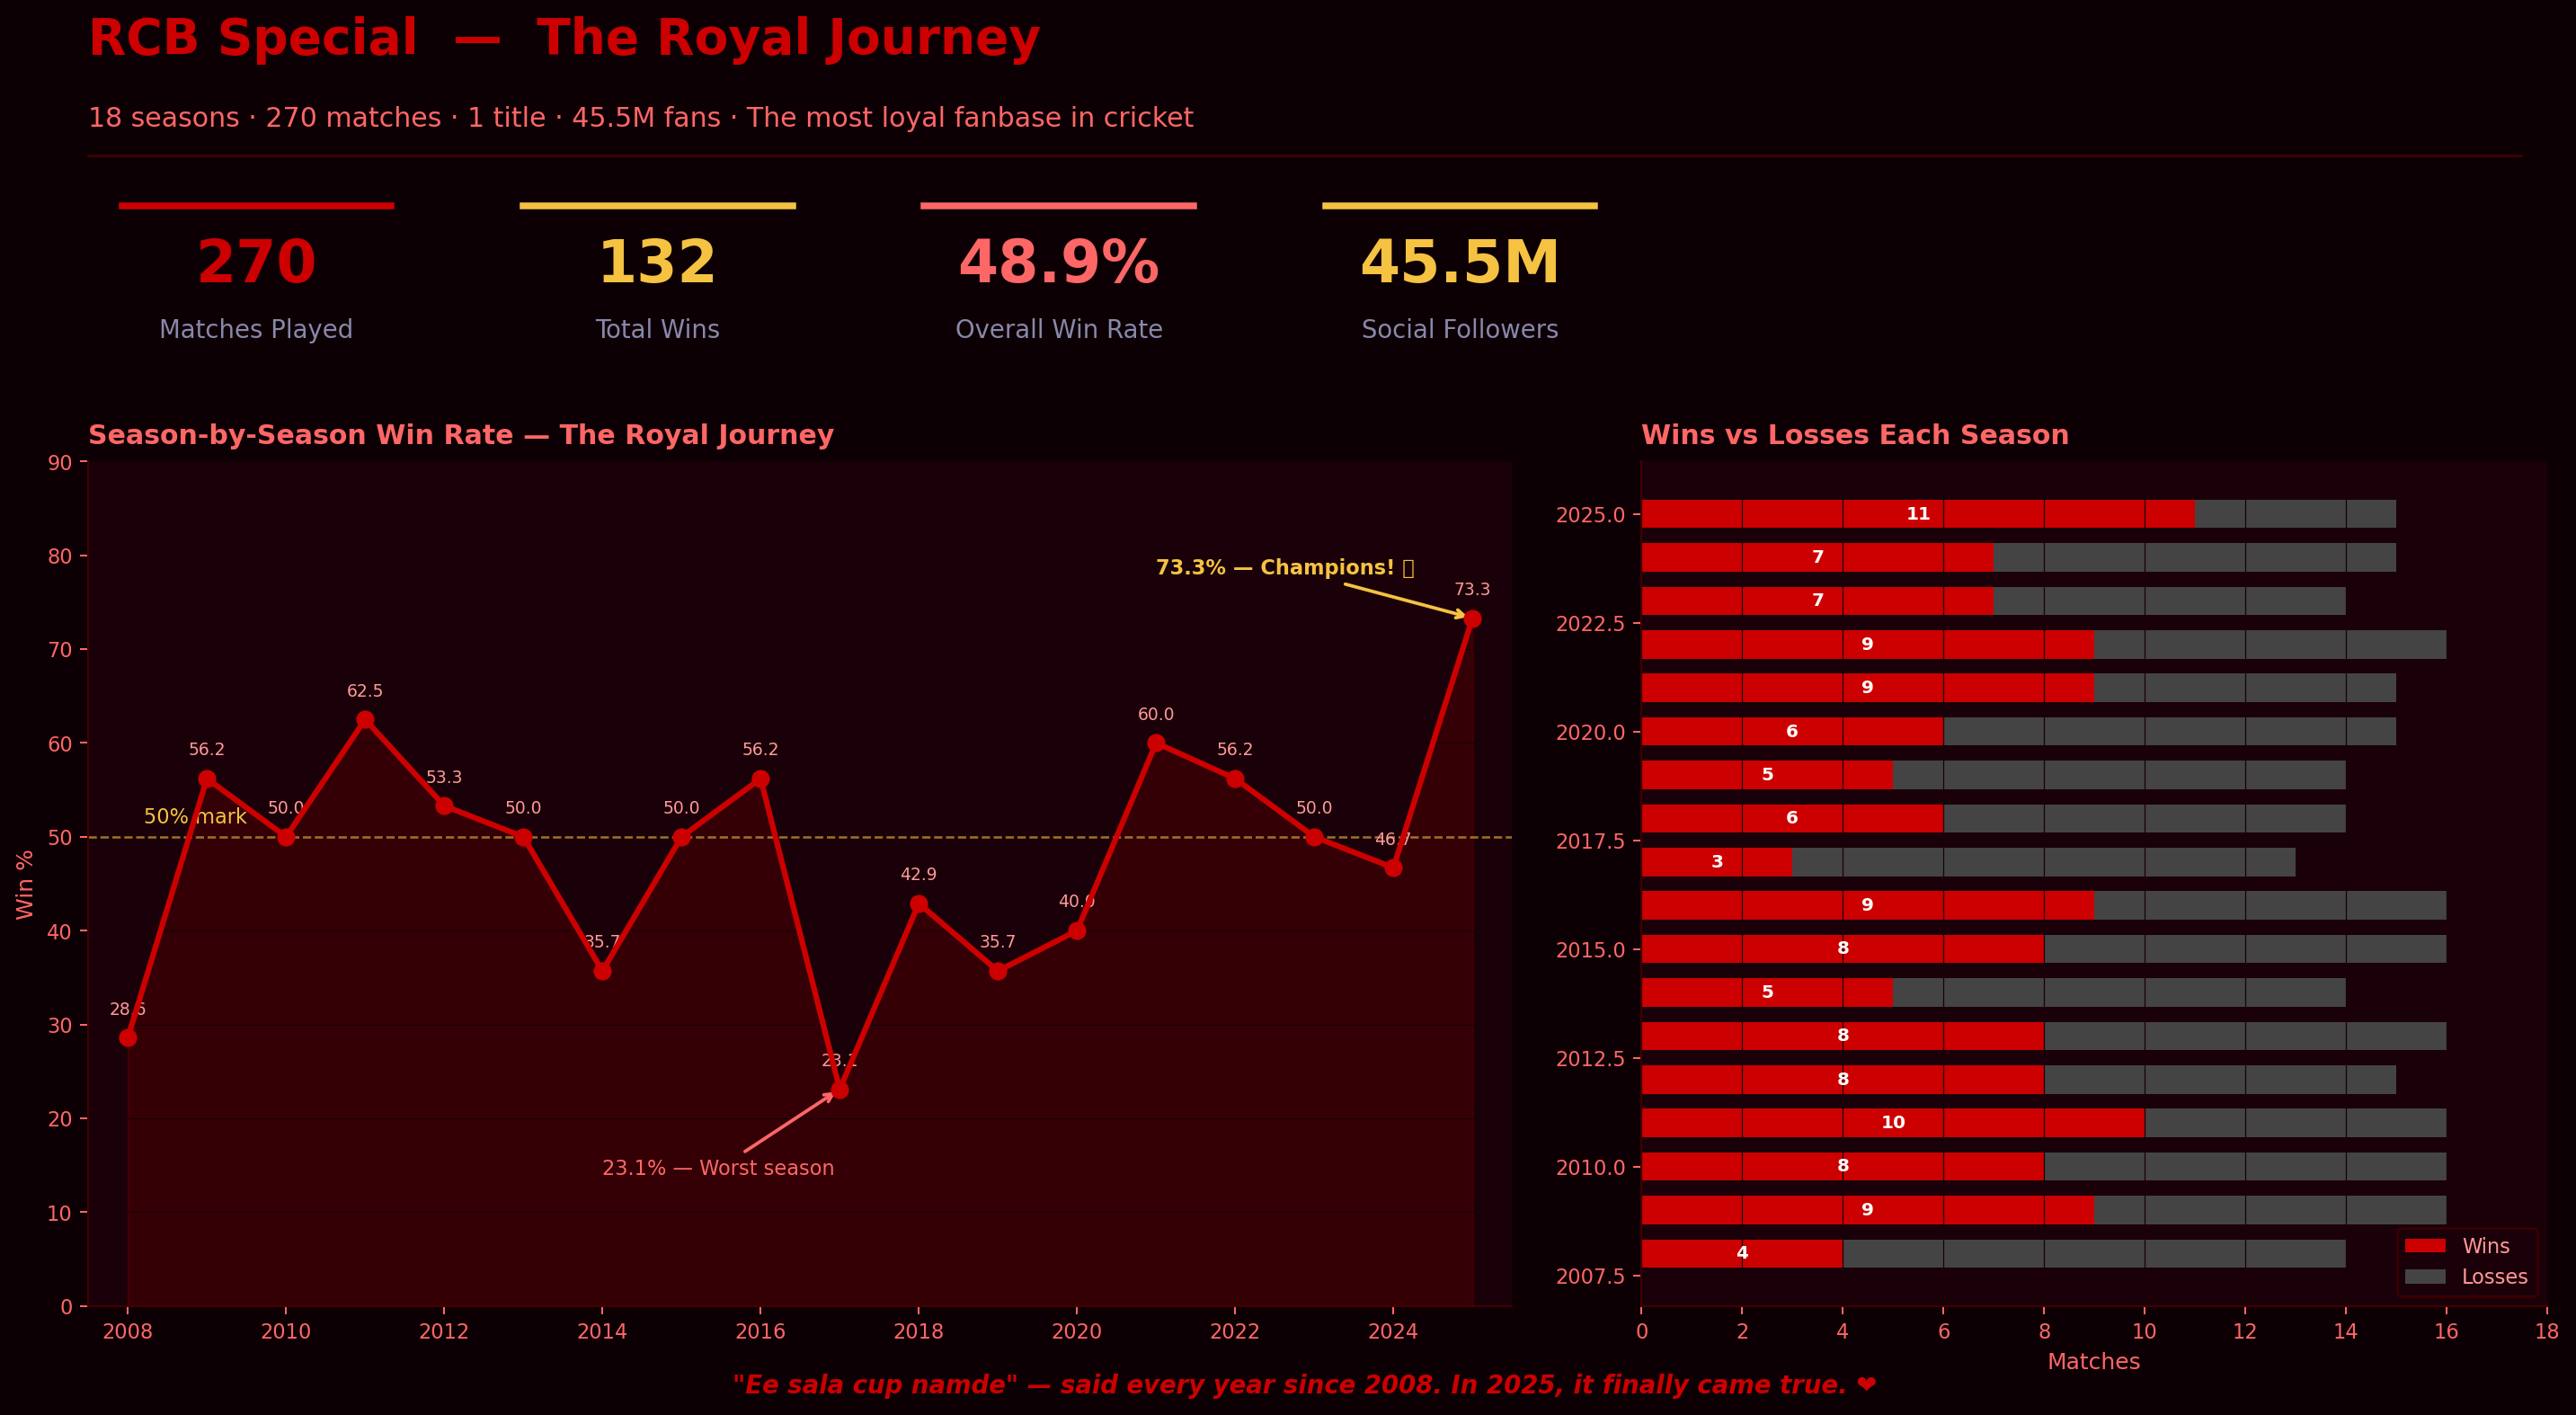

What the dashboard file says about the page in this screenshot:
{"tool":"powerbi","page":{"name":"RCB Special","canvas":[1280,720],"ordinal":3},"visuals":[{"type":"lineChart","title":"RCB Season Journey (Win % Over Years)","fields":{"Category":["pbi_rcb.year"],"Y":["Avg(pbi_rcb.win_pct)"]},"box":[38,78,1214,266],"z":0},{"type":"barChart","title":"RCB Wins vs Losses per Season","fields":{"Category":["pbi_rcb.year"],"Y":["Sum(pbi_rcb.wins)","Sum(pbi_rcb.losses)"]},"box":[38,360,732,360],"z":1},{"type":"textbox","box":[886,436,394,260],"z":2},{"type":"textbox","box":[100,100,300,62],"z":3},{"type":"textbox","box":[24,0,1228,78],"z":4}]}

Visuals, with their boxes in screenshot pixels (x1, y1, x2, y2), scaled from the page's 1280x720 canvas onto the 2576x1415 screenshot:
"RCB Season Journey (Win % Over Years)" lineChart: pyautogui.locateOnScreen(76, 154, 2519, 676)
"RCB Wins vs Losses per Season" barChart: pyautogui.locateOnScreen(76, 707, 1550, 1414)
textbox: pyautogui.locateOnScreen(1783, 857, 2575, 1368)
textbox: pyautogui.locateOnScreen(201, 197, 805, 318)
textbox: pyautogui.locateOnScreen(49, 0, 2519, 154)
